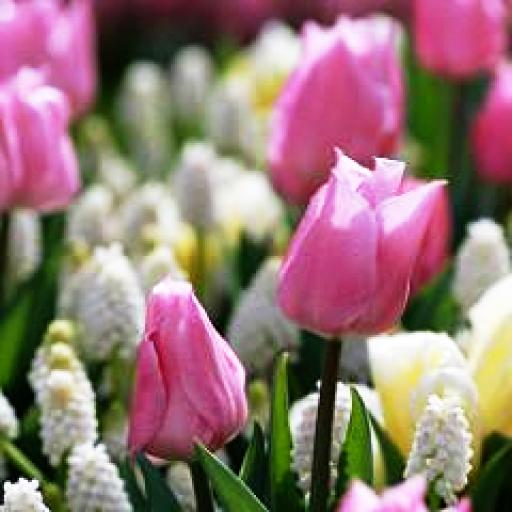tulip: (275, 145, 450, 344), (273, 15, 408, 200), (126, 271, 249, 459)
